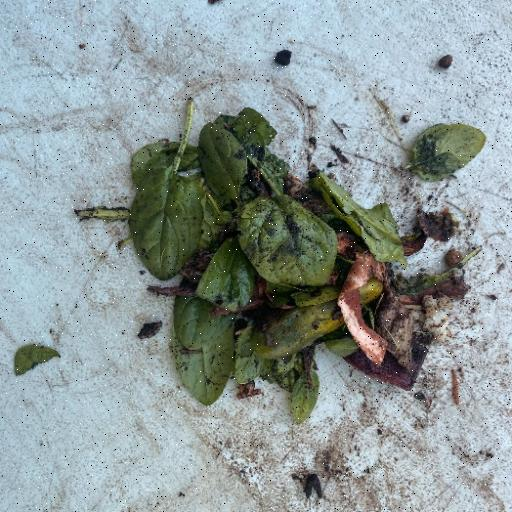Waste: (74, 97, 482, 423)
